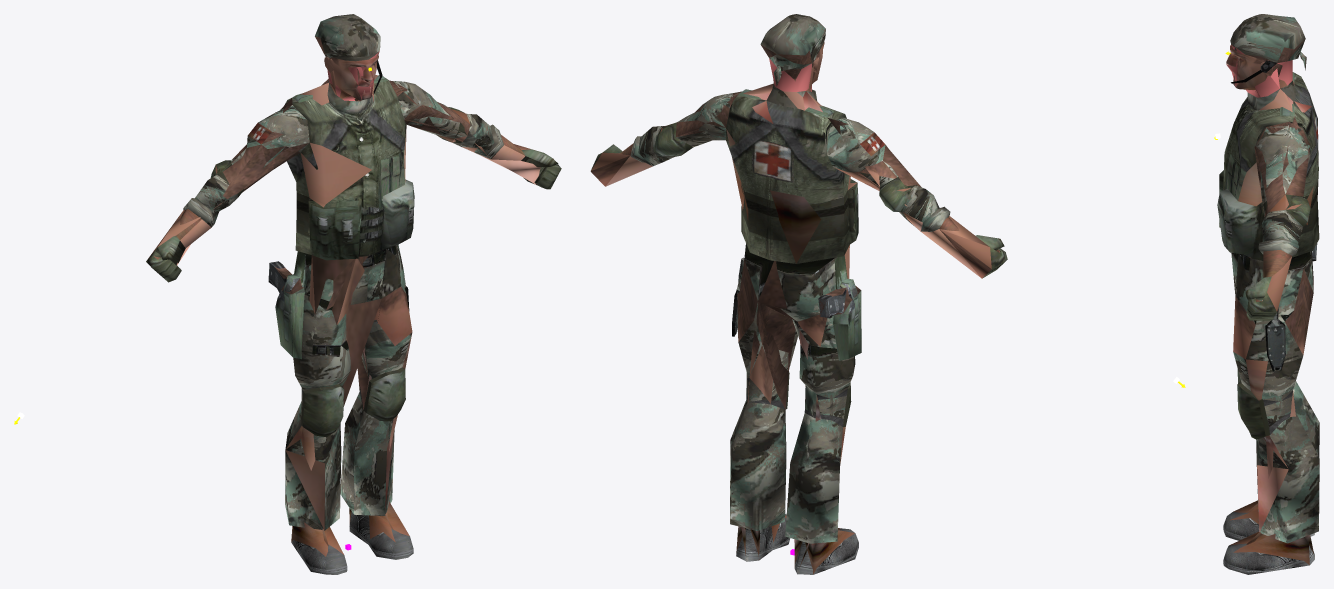
Rendered from DeltaMMD.glb.
The picture shows the model from 3 angles, left to right: view 1: azimuth 30°, elevation 25°; view 2: azimuth 150°, elevation 25°; view 3: azimuth 270°, elevation 25°; orthographic projection.
Visible parts, largest first — view 1: 01 Mesh1, 01 Mesh0.002, 01 Mesh1.001, 01 Mesh0.003, 01 Mesh0; view 2: 01 Mesh1, 01 Mesh0.002, 01 Mesh1.001, 01 Mesh0.003; view 3: 01 Mesh1, 01 Mesh0.002, 01 Mesh1.001, 01 Mesh0.003, 01 Mesh0, 01 Mesh1.002, 01 Mesh0.001.
Boxes of the visible parts, x1=… form: 01 Mesh1: x1=146, y1=14, x2=561, y2=574; 01 Mesh0.002: x1=148, y1=36, x2=553, y2=556; 01 Mesh1.001: x1=158, y1=16, x2=552, y2=429; 01 Mesh0.003: x1=158, y1=75, x2=540, y2=546; 01 Mesh0: x1=324, y1=55, x2=378, y2=101; 01 Mesh1: x1=591, y1=14, x2=1007, y2=574; 01 Mesh0.002: x1=590, y1=45, x2=999, y2=574; 01 Mesh1.001: x1=603, y1=15, x2=1004, y2=426; 01 Mesh0.003: x1=677, y1=80, x2=989, y2=567; 01 Mesh1: x1=1217, y1=14, x2=1319, y2=574; 01 Mesh0.002: x1=1229, y1=39, x2=1315, y2=564; 01 Mesh1.001: x1=1223, y1=14, x2=1318, y2=436; 01 Mesh0.003: x1=1246, y1=89, x2=1313, y2=553; 01 Mesh0: x1=1226, y1=45, x2=1282, y2=89; 01 Mesh1.002: x1=1226, y1=45, x2=1292, y2=97; 01 Mesh0.001: x1=1231, y1=53, x2=1287, y2=95.
Bounding box in the file's own units: 2.23 × 2.01 × 0.3593.
6 materials, 2 textured.
